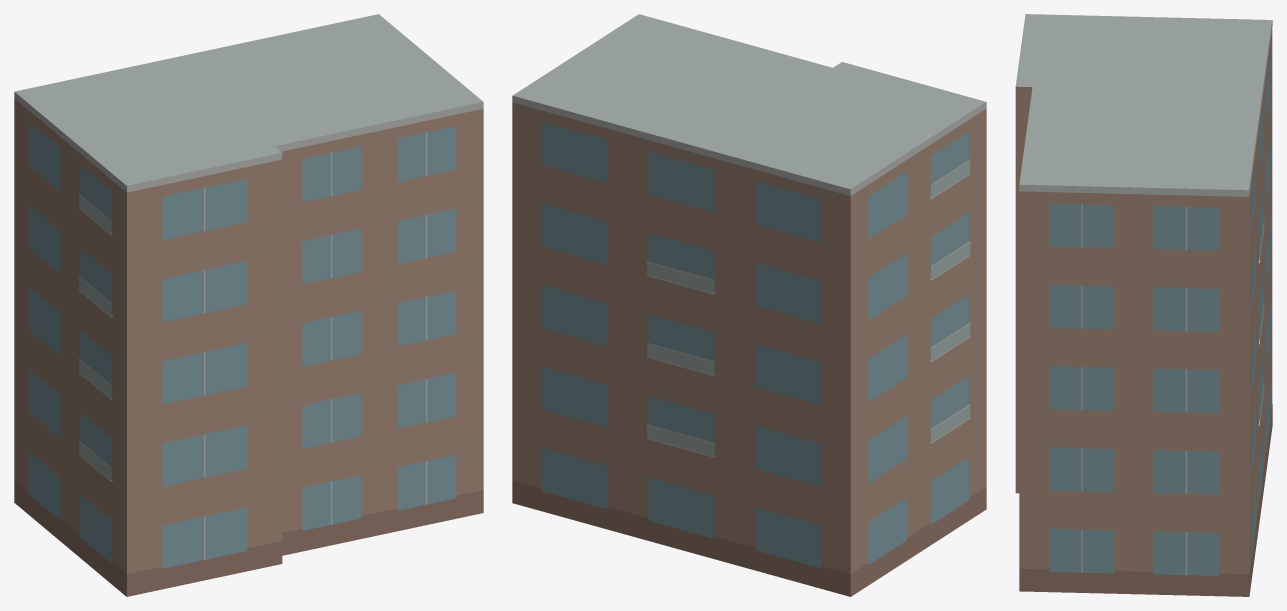
Rendered from survey-upis-32735732.glb.
3 renders of one model, left to right at view 1: azimuth 30°, elevation 25°; view 2: azimuth 150°, elevation 25°; view 3: azimuth 270°, elevation 25°, orthographic.
Visible parts, largest first — view 1: survey-upis-32735732.tmp; view 2: survey-upis-32735732.tmp; view 3: survey-upis-32735732.tmp.
Boxes of the visible parts, box(x1,y1,x2,y2) form: survey-upis-32735732.tmp: box(14, 14, 483, 596); survey-upis-32735732.tmp: box(512, 14, 986, 596); survey-upis-32735732.tmp: box(1015, 14, 1272, 596).
Size of the model in its own units: 13.86 by 14.9 by 8.54.
